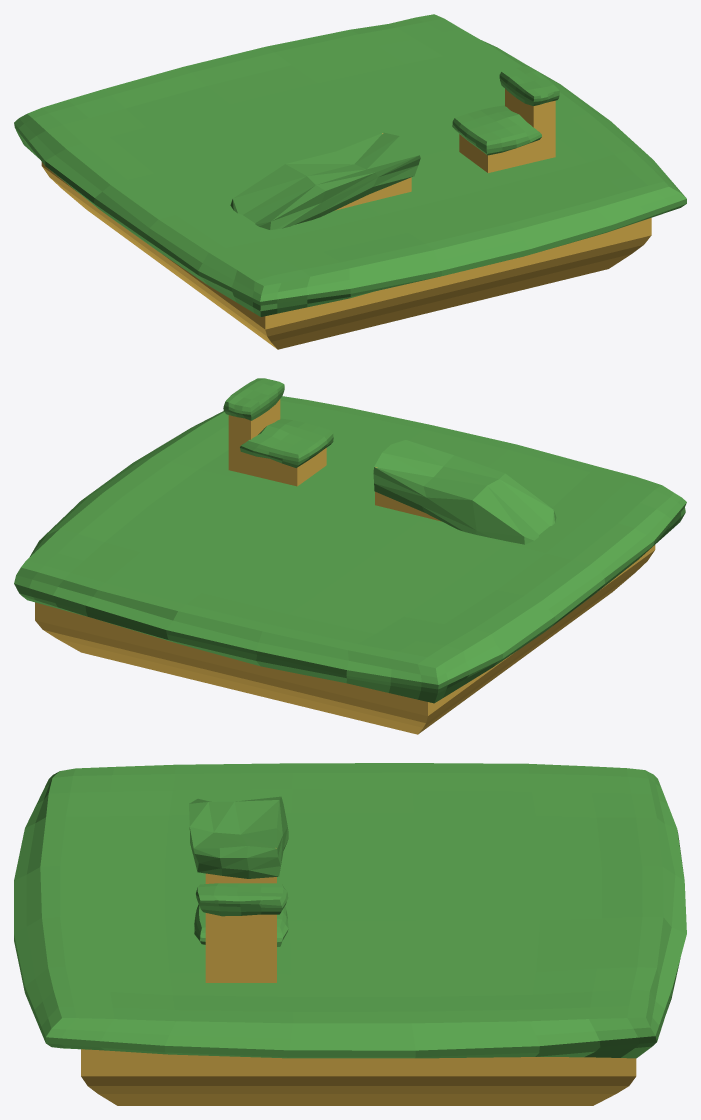
File: LevelTutorial.fbx
3 renders of one model, top to bottom at view 1: azimuth 30°, elevation 25°; view 2: azimuth 150°, elevation 25°; view 3: azimuth 270°, elevation 25°, orthographic. The views are drawn at different scales.
Parts seen in each view (by area): view 1: Cube.005, Cube.001, Cube.002, Cube.003, Cube.004; view 2: Cube.005, Cube.001, Cube.002, Cube.003, Cube.004; view 3: Cube.005, Cube.001, Cube.002, Cube.004, Cube.003.
Boxes of the visible parts, x1,y1,x2,y2 form: Cube.005: (14,14,686,316); Cube.001: (41,89,651,349); Cube.002: (230,132,420,230); Cube.003: (452,105,541,155); Cube.004: (499,66,559,106); Cube.005: (14,396,686,703); Cube.001: (35,399,655,734); Cube.002: (373,440,556,544); Cube.003: (240,418,333,467); Cube.004: (223,378,284,420); Cube.005: (14,763,686,1058); Cube.001: (81,848,636,1105); Cube.002: (189,796,288,878); Cube.004: (196,883,288,916); Cube.003: (194,904,288,946).
Bounding box in the file's own units: 2948 × 1056 × 2961.
